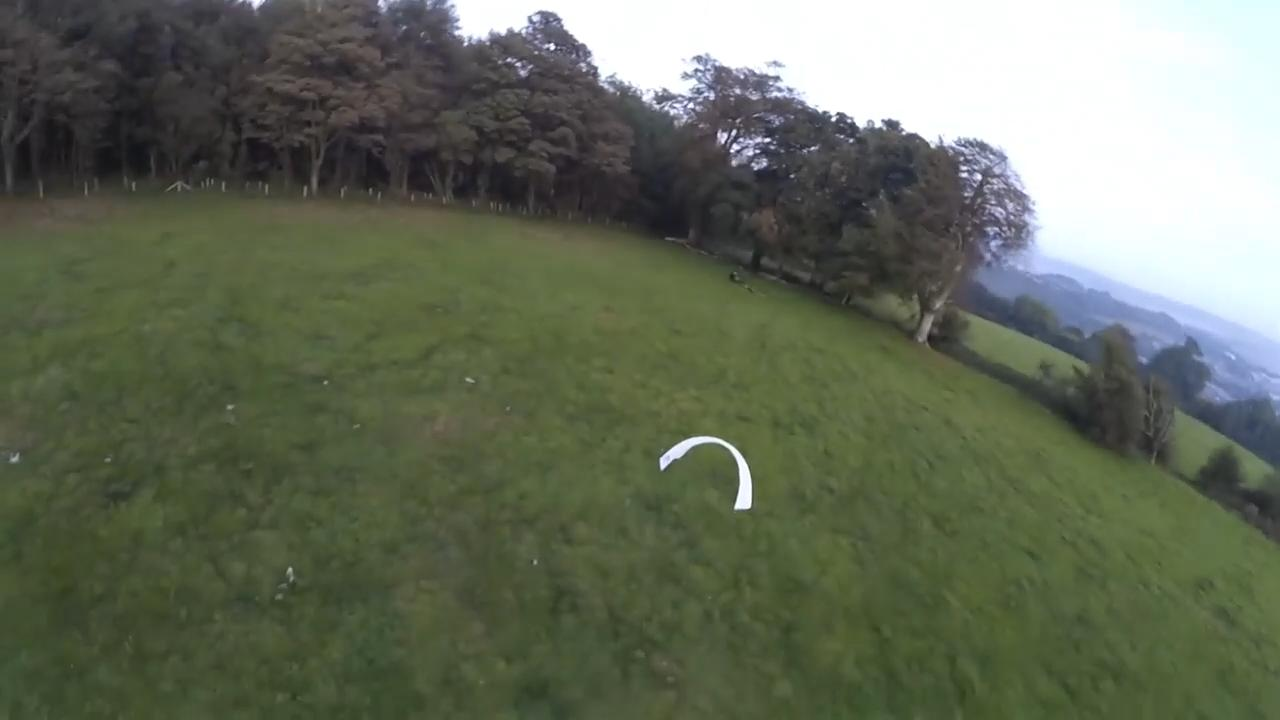gate: (657, 435, 753, 514)
